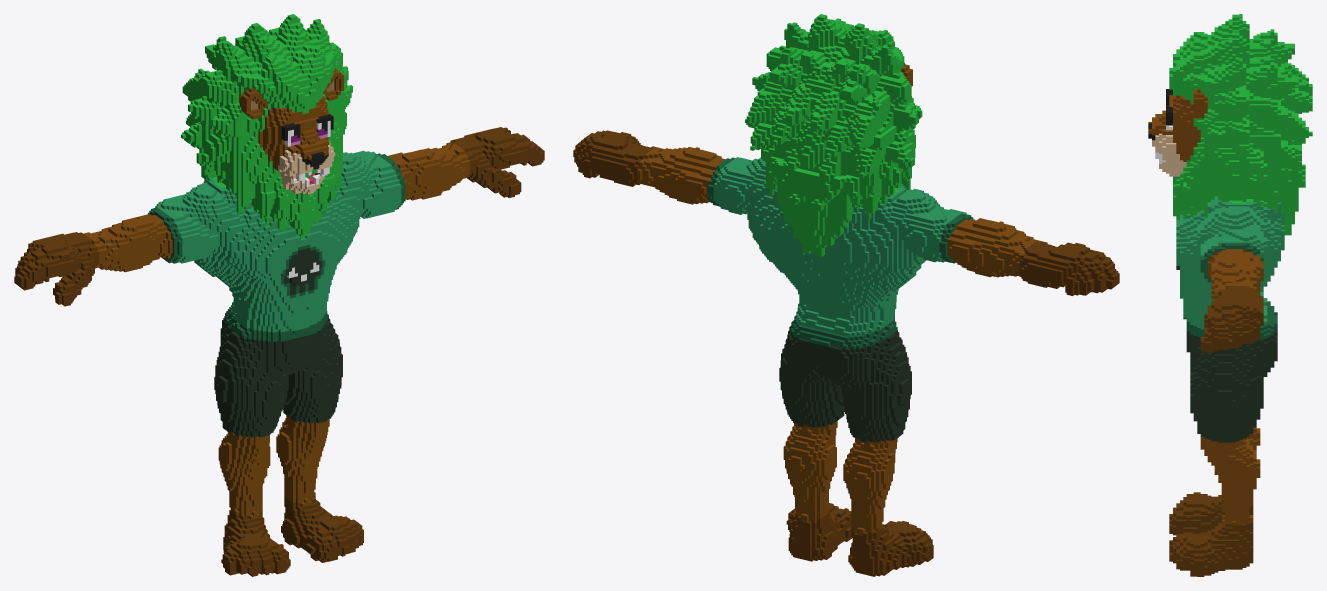
Rendered from 527-DLsEPfUB.glb.
The picture shows the model from 3 angles, left to right: view 1: azimuth 30°, elevation 25°; view 2: azimuth 150°, elevation 25°; view 3: azimuth 270°, elevation 25°; orthographic projection. The views are drawn at different scales.
Visible parts, largest first — view 1: open; view 2: open; view 3: open.
Boxes of the visible parts, box(x1,y1,x2,y2) form: open: box(14, 14, 544, 576); open: box(573, 14, 1119, 576); open: box(1148, 14, 1312, 576).
Bounding box in the file's own units: 17.2 × 16.5 × 4.7.
5 materials, 5 textured.
